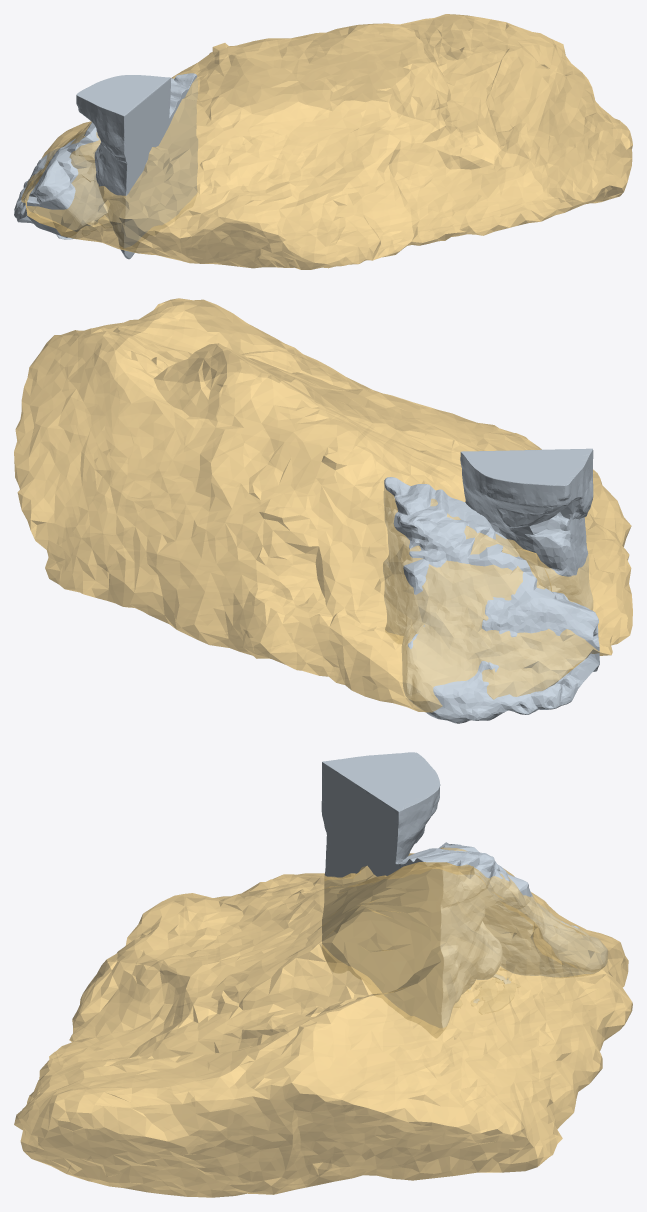
The picture shows the model from 3 angles, top to bottom: view 1: azimuth 30°, elevation 25°; view 2: azimuth 150°, elevation 25°; view 3: azimuth 270°, elevation 25°; orthographic projection. The views are drawn at different scales.
Parts seen in each view (by area): view 1: truth, imagination; view 2: truth, imagination; view 3: truth, imagination.
Part boxes in pixels (x1=…): truth: x1=21, y1=14, x2=632, y2=269; imagination: x1=14, y1=73, x2=197, y2=259; truth: x1=14, y1=298, x2=632, y2=712; imagination: x1=383, y1=448, x2=599, y2=723; truth: x1=14, y1=847, x2=632, y2=1197; imagination: x1=321, y1=752, x2=607, y2=1037.
Size of the model in its own units: 1.34 by 0.4348 by 1.07.
